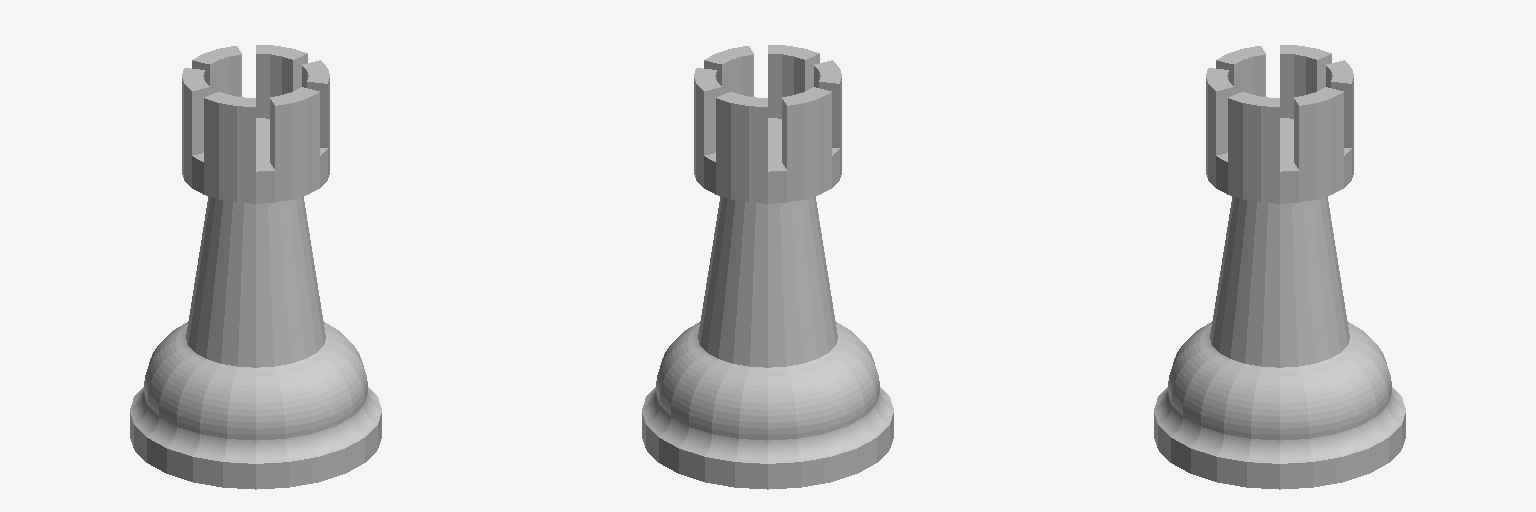
The model's file is 2_torre.obj.
The picture shows the model from 3 angles: view 1: azimuth 30°, elevation 25°; view 2: azimuth 150°, elevation 25°; view 3: azimuth 270°, elevation 25°; orthographic projection.
Visible parts, largest first — view 1: instance_22_ID362, instance_22.001_ID370; view 2: instance_22_ID362, instance_22.001_ID370; view 3: instance_22_ID362, instance_22.001_ID370.
Part boxes in pixels (x1,y1,x2,y2): instance_22_ID362: (130,196,381,489); instance_22.001_ID370: (182,45,329,203); instance_22_ID362: (642,196,893,489); instance_22.001_ID370: (694,45,841,203); instance_22_ID362: (1154,196,1405,489); instance_22.001_ID370: (1206,45,1353,203).
Size of the model in its own units: 0.032 by 0.0504 by 0.032.